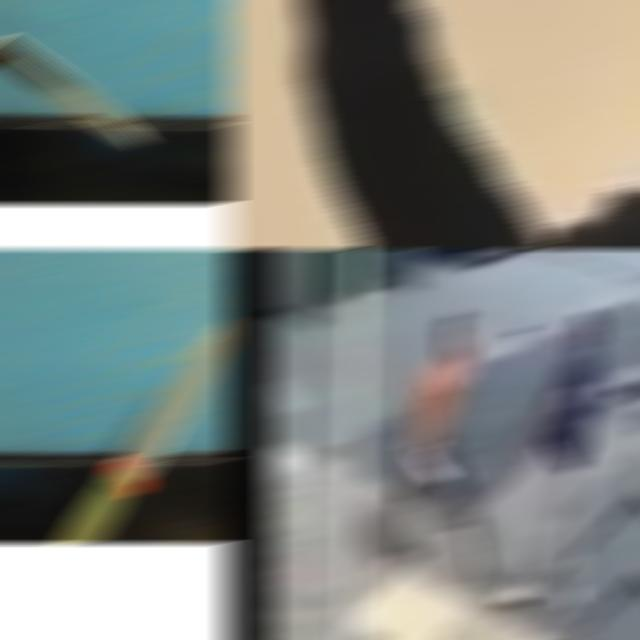Knife: (56, 320, 236, 541), (0, 40, 149, 146)
Knife_Handle: (398, 440, 450, 482)
